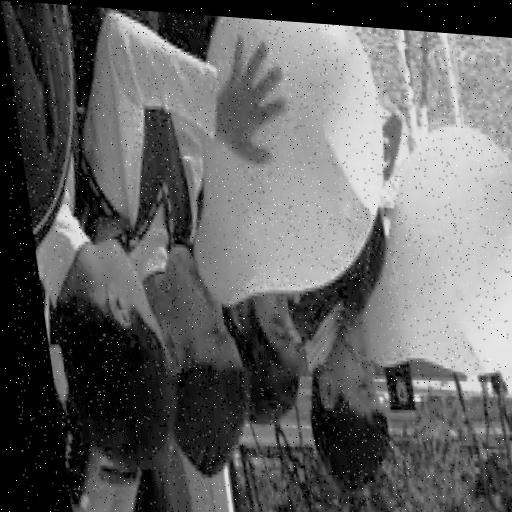balloon: (159, 12, 406, 323), (328, 116, 512, 396)
